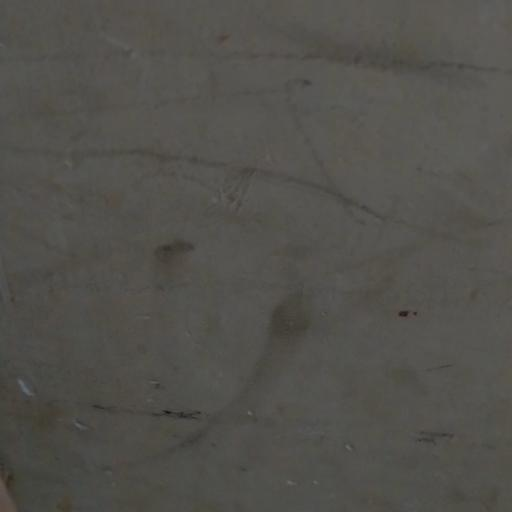stain: (14, 59, 512, 269), (88, 274, 328, 476)
